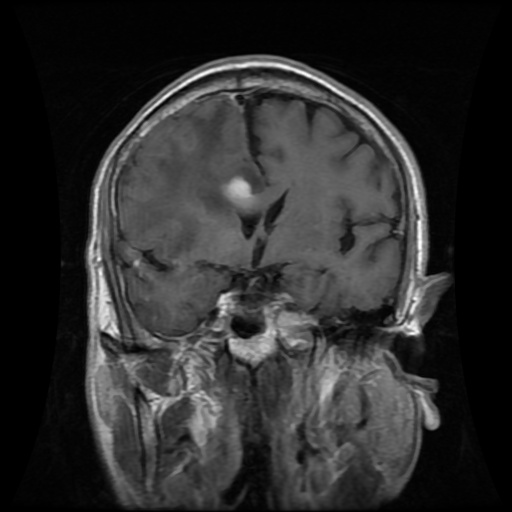glioma: (128, 100, 263, 256)
